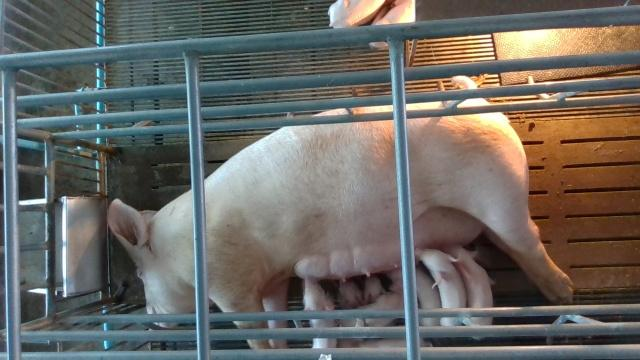piglet: (441, 247, 495, 340), (415, 247, 467, 327), (338, 293, 403, 340), (303, 275, 336, 348), (369, 0, 415, 50), (327, 0, 395, 29)
sow-sleep-lactate: (106, 76, 571, 350)
